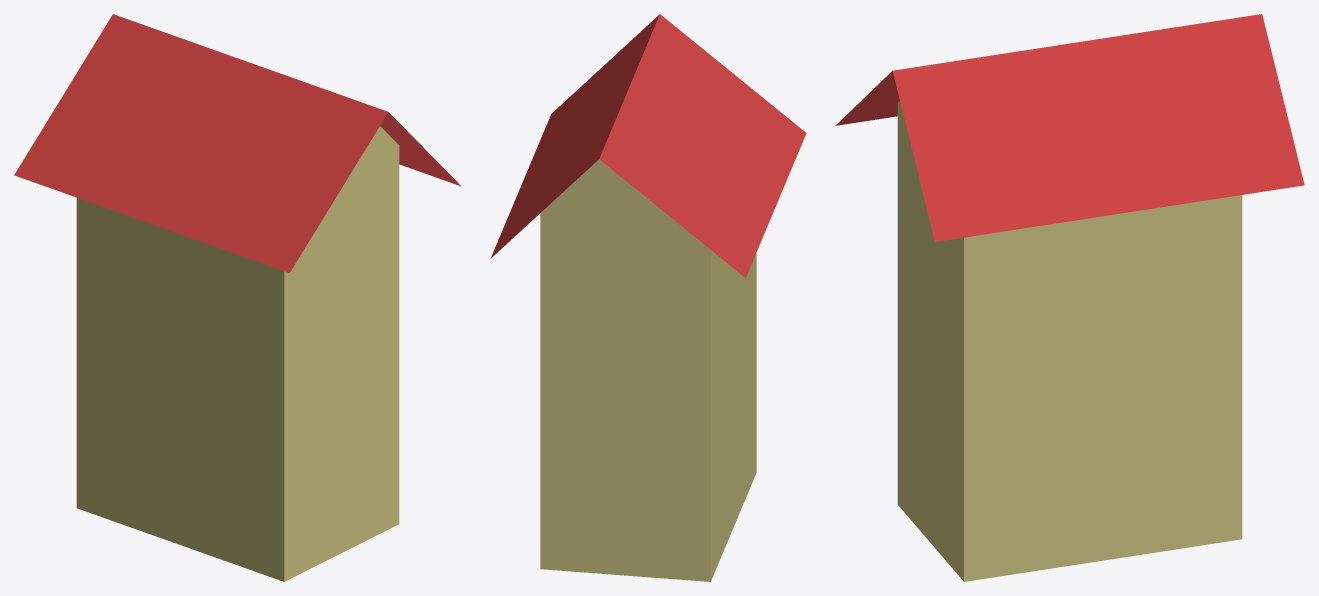
The picture shows the model from 3 angles, left to right: view 1: azimuth 30°, elevation 25°; view 2: azimuth 150°, elevation 25°; view 3: azimuth 270°, elevation 25°; orthographic projection. The views are drawn at different scales.
Bounding box in the file's own units: 6.31 × 7.24 × 8.31.
